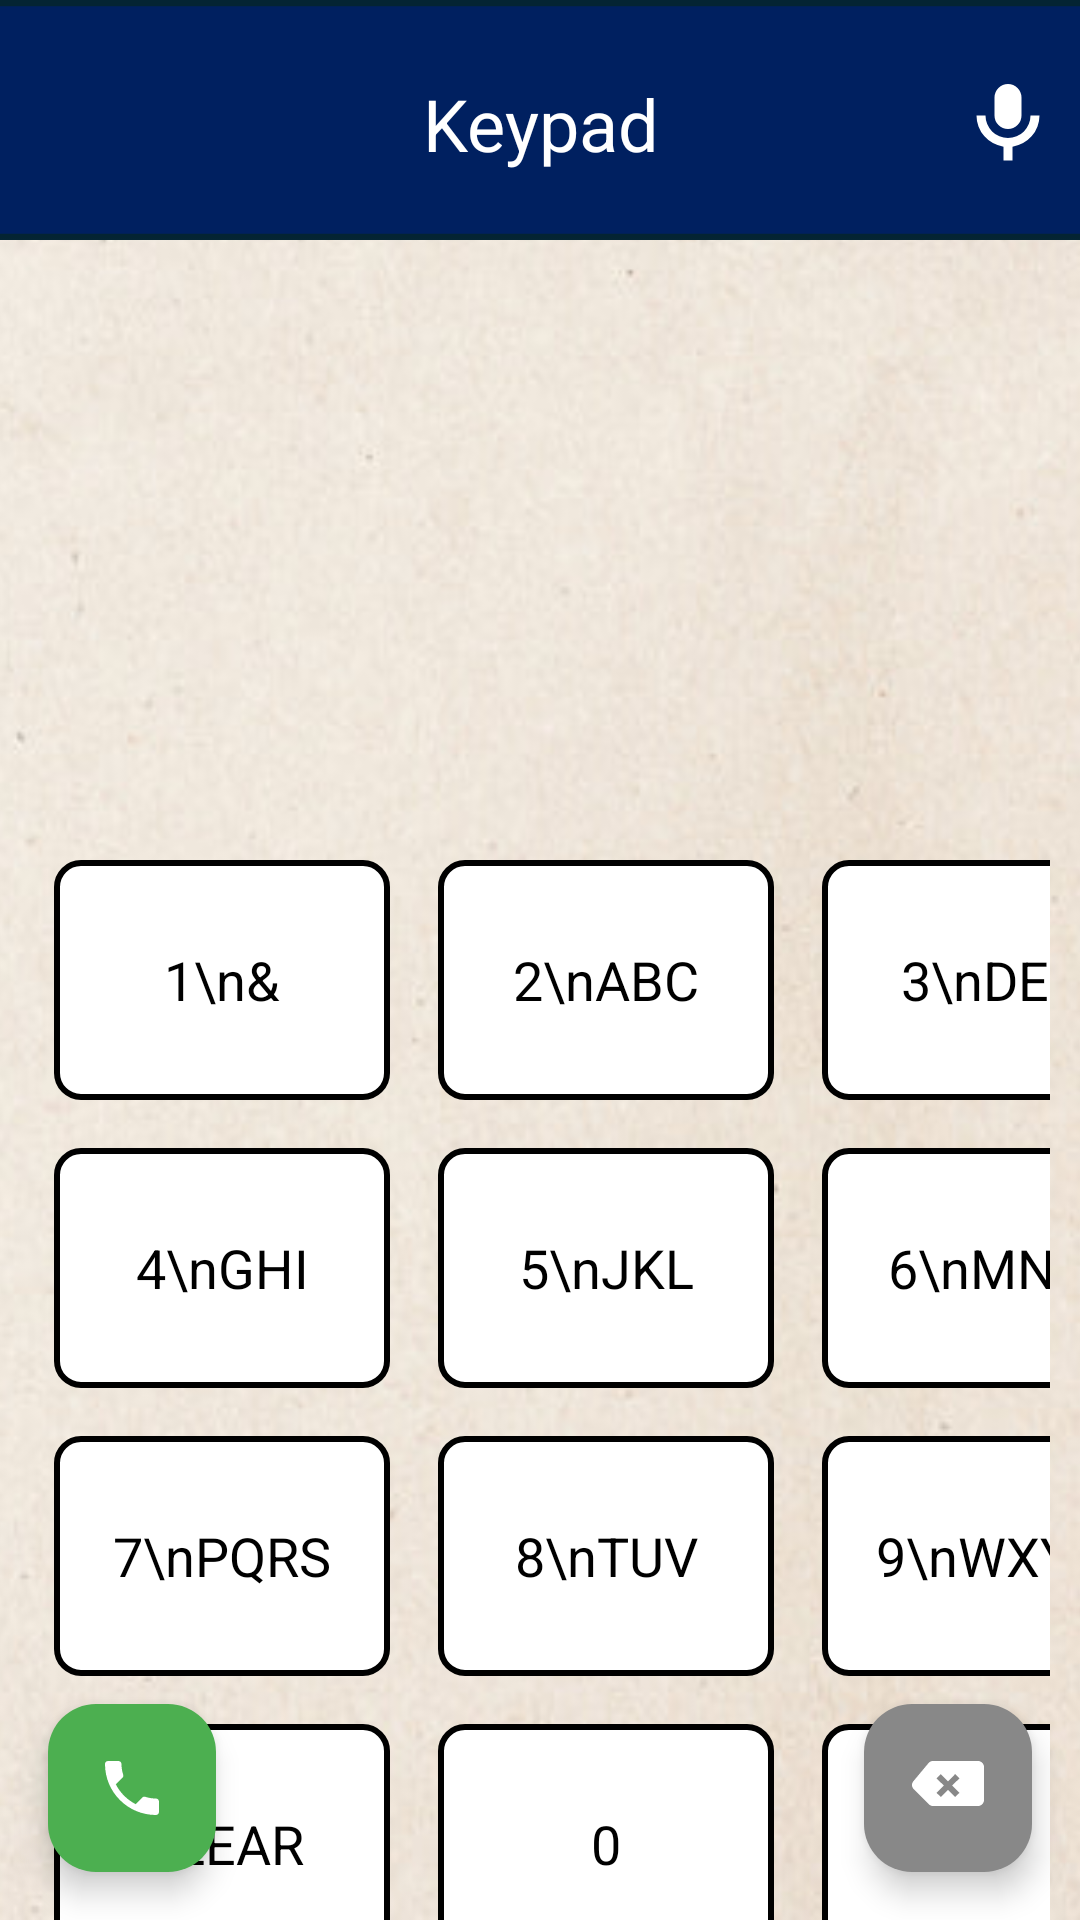

Icons on this 1080px×1920px Android screen, each with the point to tap as [x,y]:
backspace: [948,1788]
phone: [132,1788]
